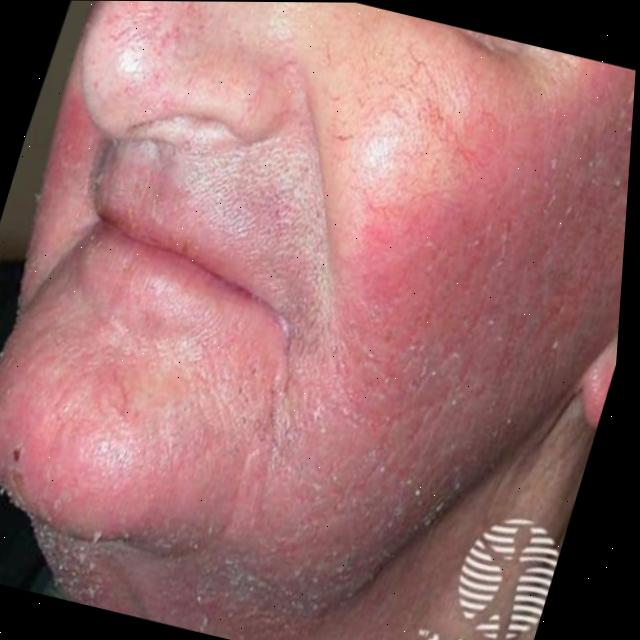Eczema: (170, 3, 640, 606), (0, 290, 209, 570)
